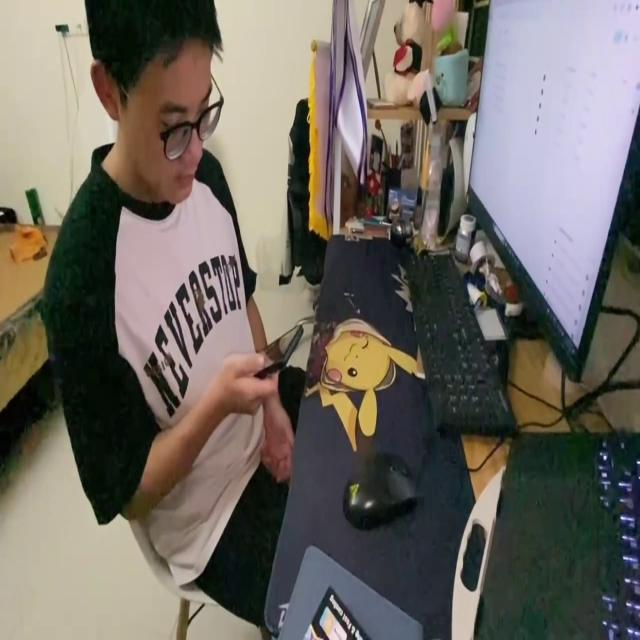laptop: (465, 0, 640, 398)
phone: (254, 314, 303, 380)
student: (45, 0, 308, 589)
